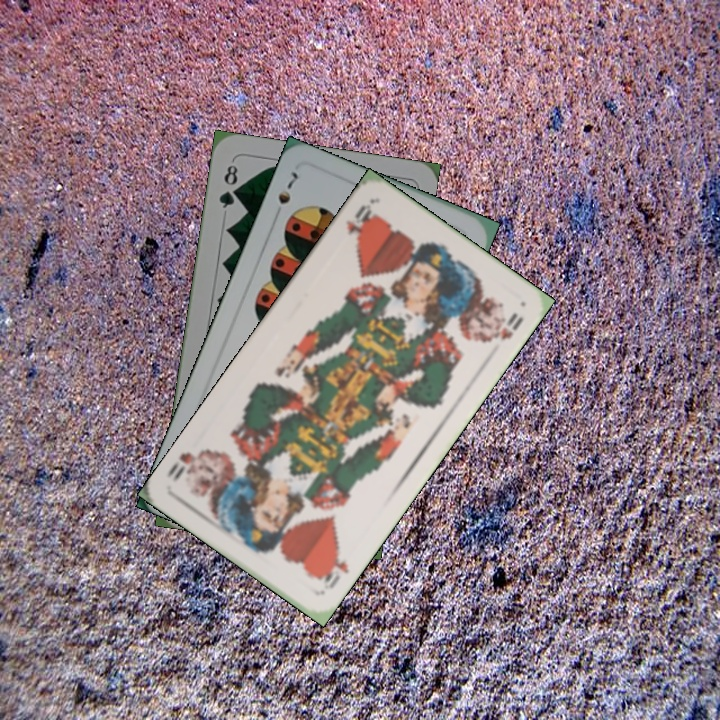G8: (214, 160, 241, 211)
HO: (315, 543, 352, 592), (342, 199, 378, 242)
S7: (269, 167, 301, 222)
